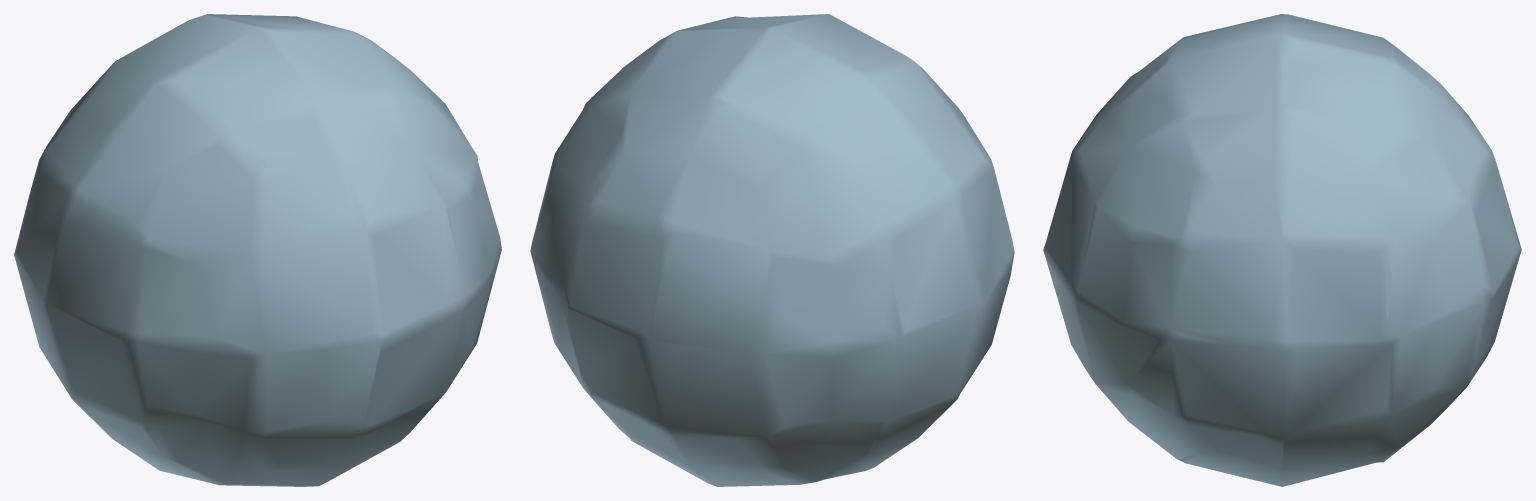
Rendered from gen3d-crystal-ball-lod1.glb.
3 views of the same model, side by side, from view 1: azimuth 30°, elevation 25°; view 2: azimuth 150°, elevation 25°; view 3: azimuth 270°, elevation 25° (orthographic). The views are drawn at different scales.
Parts seen in each view (by area): view 1: part_0; view 2: part_0; view 3: part_0.
Boxes of the visible parts, x1=… form: part_0: x1=14, y1=14, x2=501, y2=486; part_0: x1=530, y1=14, x2=1014, y2=486; part_0: x1=1043, y1=14, x2=1521, y2=486.
Size of the model in its own units: 0.9979 by 0.9974 by 1.
